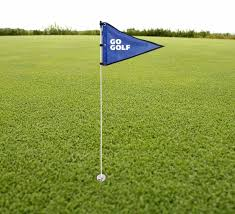Flag: (100, 21, 165, 65)
